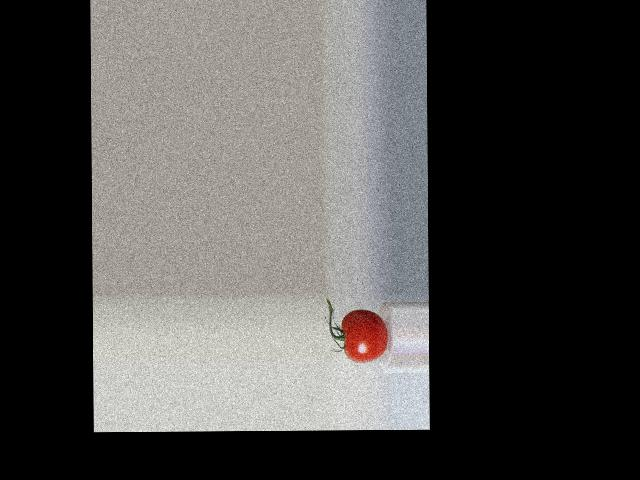tomato: (341, 308, 388, 362)
